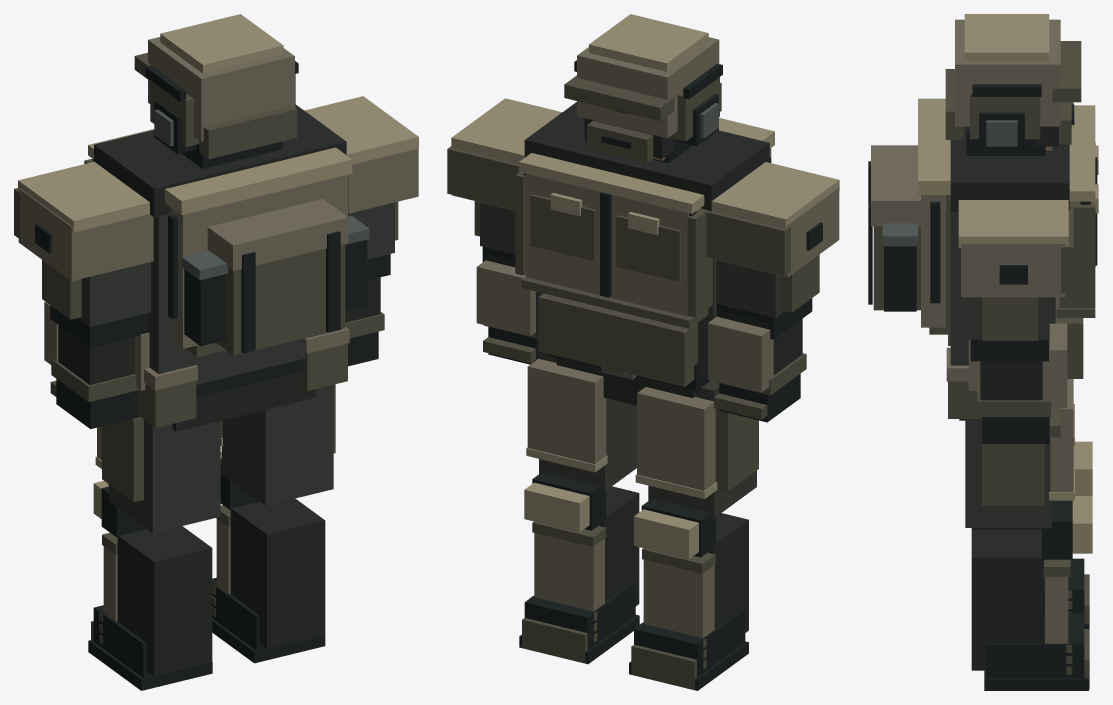
The model's file is brute.glb.
3 renders of one model, left to right at view 1: azimuth 30°, elevation 25°; view 2: azimuth 150°, elevation 25°; view 3: azimuth 270°, elevation 25°, orthographic. The views are drawn at different scales.
Visible parts, largest first — view 1: Merged_material (×19), Shin fatigue 1, Shin fatigue -1, Thigh fatigues 1, Thigh fatigues -1, Ballistic helmet dome, Torso fatigue shell, Pauldron upper lip -1, Helmet crown, Pauldron upper lip 1, Upper arm fatigues -1, Forearm fatigues -1 (+2 smaller); view 2: Merged_material (×21), Ballistic helmet dome, Pauldron upper lip -1, Helmet crown, Pauldron upper lip 1, Shin fatigue -1, Thigh fatigues 1, Shin fatigue 1, Upper arm fatigues -1, Thigh fatigues -1, Upper arm fatigues 1, Forearm fatigues -1 (+1 smaller); view 3: Merged_material (×19), Shin fatigue 1, Pauldron upper lip 1, Ballistic helmet dome, Helmet crown, Thigh fatigues 1, Forearm fatigues 1, Torso fatigue shell, Upper arm fatigues 1, Lower face scarf.
Boxes of the visible parts, x1,y1,x2,y2 form: Merged_material (×19): (14, 52, 418, 690); Shin fatigue 1: (230, 498, 325, 648); Shin fatigue -1: (117, 526, 212, 676); Thigh fatigues 1: (221, 384, 333, 505); Thigh fatigues -1: (108, 420, 220, 533); Ballistic helmet dome: (148, 37, 294, 141); Torso fatigue shell: (148, 213, 341, 384); Pauldron upper lip -1: (18, 161, 149, 232); Helmet crown: (160, 14, 283, 73); Pauldron upper lip 1: (304, 96, 418, 164); Upper arm fatigues -1: (77, 262, 150, 326); Forearm fatigues -1: (58, 325, 134, 384); Merged_material (×21): (447, 60, 839, 690); Ballistic helmet dome: (577, 37, 719, 138); Pauldron upper lip -1: (711, 162, 839, 228); Helmet crown: (589, 14, 708, 71); Pauldron upper lip 1: (451, 98, 562, 163); Shin fatigue -1: (708, 513, 748, 632); Thigh fatigues 1: (539, 351, 636, 491); Shin fatigue 1: (598, 486, 639, 606); Upper arm fatigues -1: (716, 260, 784, 317); Thigh fatigues -1: (648, 380, 756, 517); Upper arm fatigues 1: (480, 202, 515, 254); Forearm fatigues -1: (718, 311, 802, 375); Merged_material (×19): (868, 41, 1098, 690); Shin fatigue 1: (971, 529, 1043, 670); Pauldron upper lip 1: (958, 200, 1068, 247); Ballistic helmet dome: (955, 19, 1060, 126); Helmet crown: (964, 14, 1049, 61); Thigh fatigues 1: (965, 419, 1051, 527); Forearm fatigues 1: (980, 340, 1049, 400); Torso fatigue shell: (950, 212, 1055, 365); Upper arm fatigues 1: (966, 297, 1049, 339); Lower face scarf: (1035, 126, 1058, 146).
Size of the model in its own units: 1.28 by 2.15 by 0.7325.
